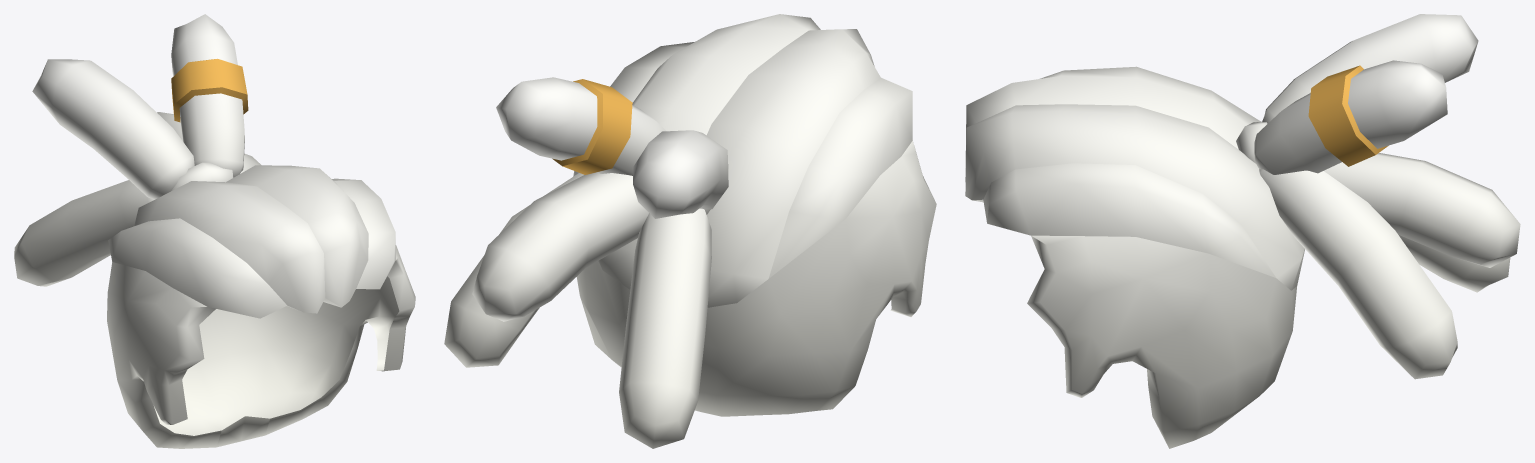
Rendered from Hair_White_13.fbx.
3 renders of one model, left to right at view 1: azimuth 30°, elevation 25°; view 2: azimuth 150°, elevation 25°; view 3: azimuth 270°, elevation 25°, orthographic. The views are drawn at different scales.
Parts seen in each view (by area): view 1: Hair_White_13; view 2: Hair_White_13; view 3: Hair_White_13.
Boxes of the visible parts, bbox=[...] form: Hair_White_13: bbox=[14, 14, 415, 448]; Hair_White_13: bbox=[444, 14, 936, 448]; Hair_White_13: bbox=[965, 14, 1520, 448].
Size of the model in its own units: 53.97 by 66.3 by 85.25.
